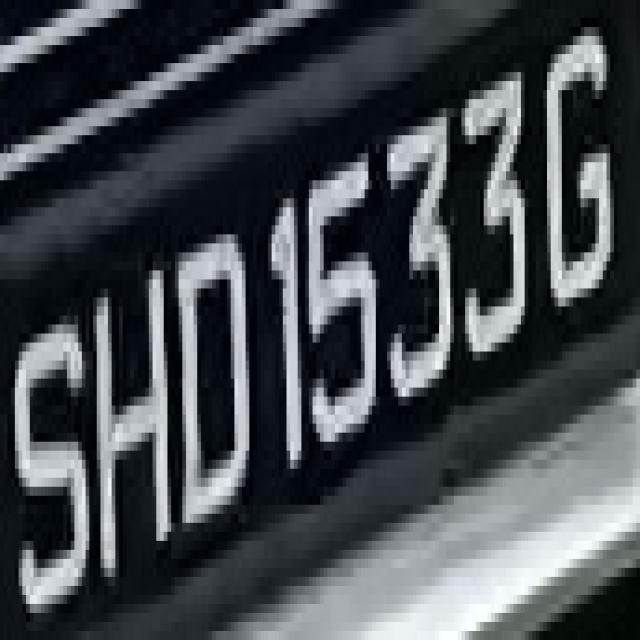1: (260, 135, 312, 496)
3: (439, 54, 532, 397), (372, 99, 461, 424)
5: (294, 162, 376, 478)
D: (160, 198, 249, 532)
G: (540, 9, 622, 325)
H: (93, 234, 175, 604)
S: (11, 288, 89, 622)
